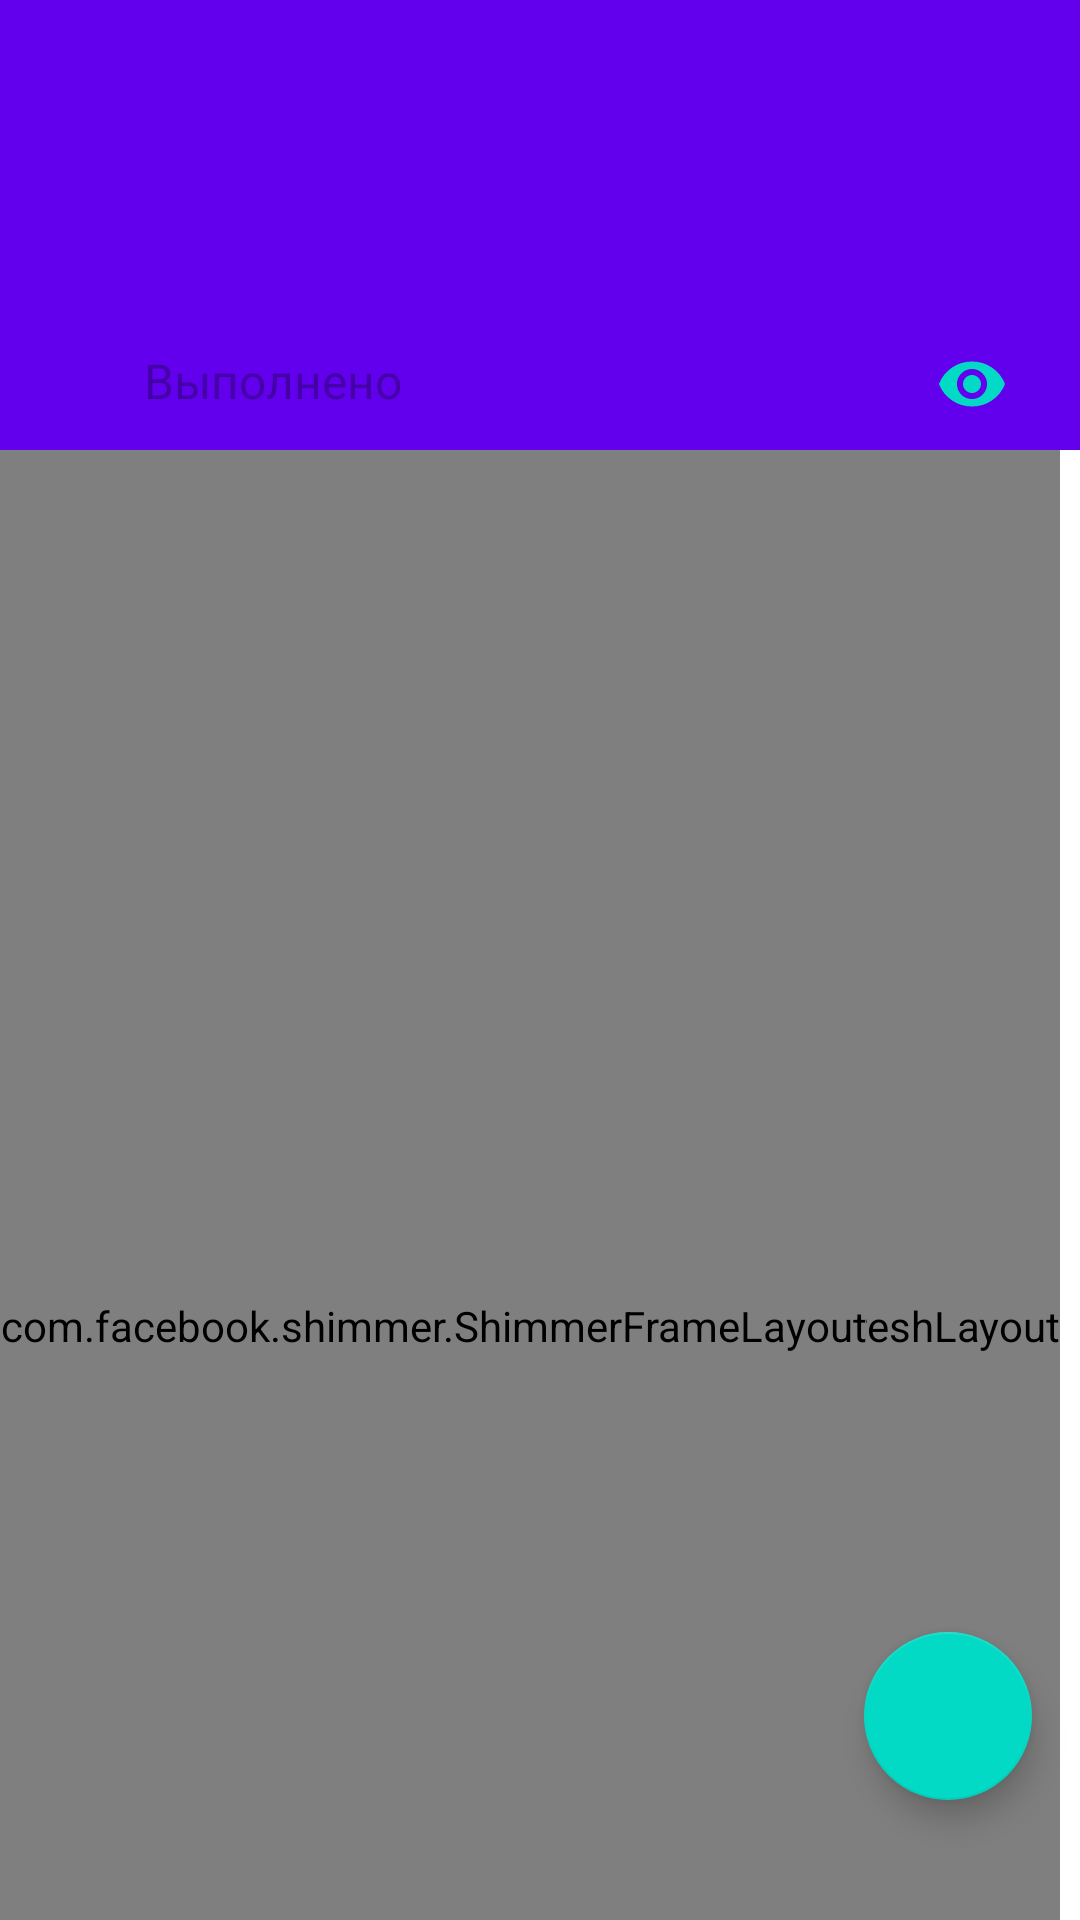

Icons on this 1080×1920 Android screen, each with the point to tap as [x,y]:
show/hide completed items: [972,384]
